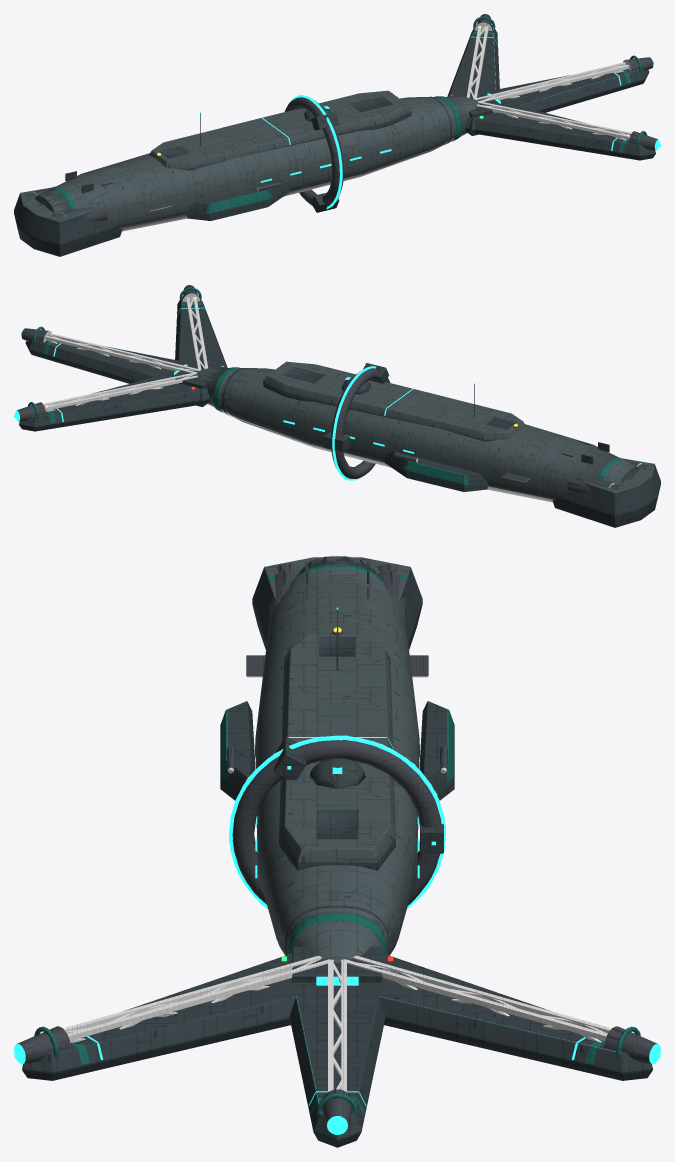
Rendered from lattice_warden.glb.
3 views of the same model, one above another, from view 1: azimuth 30°, elevation 25°; view 2: azimuth 150°, elevation 25°; view 3: azimuth 270°, elevation 25° (orthographic). The views are drawn at different scales.
Visible parts, largest first — view 1: LOD0_Hull, LOD0_Armor, LOD2_Hull, LOD1_Hull, LOD0_MechanicalDark, LOD0_Mechanical, LOD1_MechanicalDark, LOD0_Livery, LOD2_Mechanical, LOD2_Armor, LOD0_Lights_Cyan_teal, LOD2_MechanicalDark (+1 smaller); view 2: LOD0_Hull, LOD0_Armor, LOD1_Hull, LOD2_Hull, LOD0_MechanicalDark, LOD0_Mechanical, LOD0_Livery, LOD1_MechanicalDark, LOD2_Mechanical, LOD2_Armor, LOD0_Lights_Cyan_teal, LOD2_MechanicalDark (+1 smaller); view 3: LOD0_Armor, LOD0_Hull, LOD1_Hull, LOD2_Hull, LOD0_MechanicalDark, LOD0_Mechanical, LOD2_Mechanical, LOD1_MechanicalDark, LOD0_Livery, LOD2_Armor, LOD0_Lights_Cyan_teal, LOD1_Mechanical (+2 smaller).
Part boxes in pixels (x1,y1,x2,y2): LOD0_Hull: [20, 90, 478, 228]; LOD0_Armor: [14, 25, 655, 256]; LOD2_Hull: [26, 96, 477, 227]; LOD1_Hull: [22, 96, 477, 225]; LOD0_MechanicalDark: [25, 22, 631, 231]; LOD0_Mechanical: [24, 14, 657, 221]; LOD1_MechanicalDark: [129, 22, 630, 229]; LOD0_Livery: [32, 16, 646, 218]; LOD2_Mechanical: [25, 14, 657, 220]; LOD2_Armor: [15, 27, 655, 250]; LOD0_Lights_Cyan_teal: [200, 36, 660, 207]; LOD2_MechanicalDark: [41, 22, 624, 231]; LOD0_Hull: [196, 361, 654, 495]; LOD0_Armor: [19, 296, 660, 527]; LOD1_Hull: [196, 367, 653, 499]; LOD2_Hull: [197, 364, 645, 499]; LOD0_MechanicalDark: [43, 293, 649, 501]; LOD0_Mechanical: [17, 285, 650, 492]; LOD0_Livery: [28, 287, 643, 489]; LOD1_MechanicalDark: [45, 293, 613, 489]; LOD2_Mechanical: [18, 285, 649, 491]; LOD2_Armor: [19, 298, 659, 522]; LOD0_Lights_Cyan_teal: [14, 307, 474, 480]; LOD2_MechanicalDark: [50, 293, 552, 502]; LOD0_Armor: [22, 562, 652, 1147]; LOD0_Hull: [255, 556, 419, 962]; LOD1_Hull: [255, 556, 419, 962]; LOD2_Hull: [256, 556, 418, 959]; LOD0_MechanicalDark: [65, 676, 609, 1091]; LOD0_Mechanical: [17, 563, 657, 1127]; LOD2_Mechanical: [18, 563, 656, 1124]; LOD1_MechanicalDark: [66, 676, 608, 1091]; LOD0_Livery: [34, 564, 640, 1116]; LOD2_Armor: [22, 567, 652, 1147]; LOD0_Lights_Cyan_teal: [14, 607, 660, 1134]; LOD1_Mechanical: [23, 564, 651, 1118].
Size of what is drawn, in the model's own units: 50.42 by 9.26 by 24.31.
Materials: 11 (5 with a texture image).
